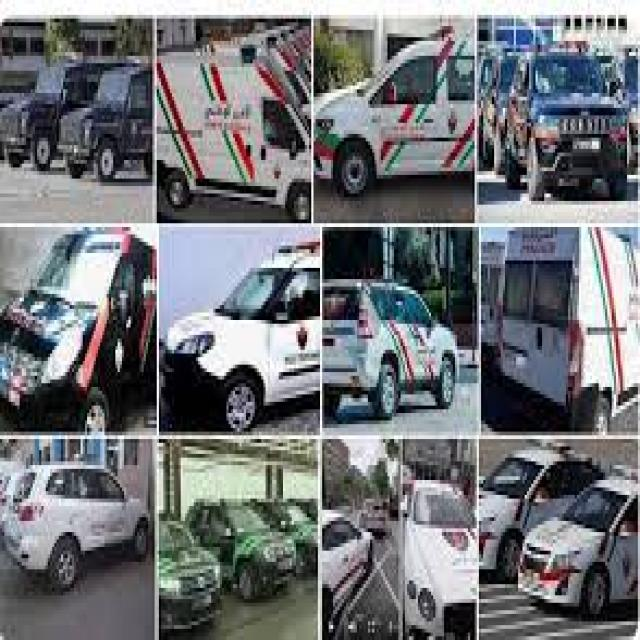police: (158, 39, 311, 220), (318, 23, 476, 195), (322, 270, 459, 418)
